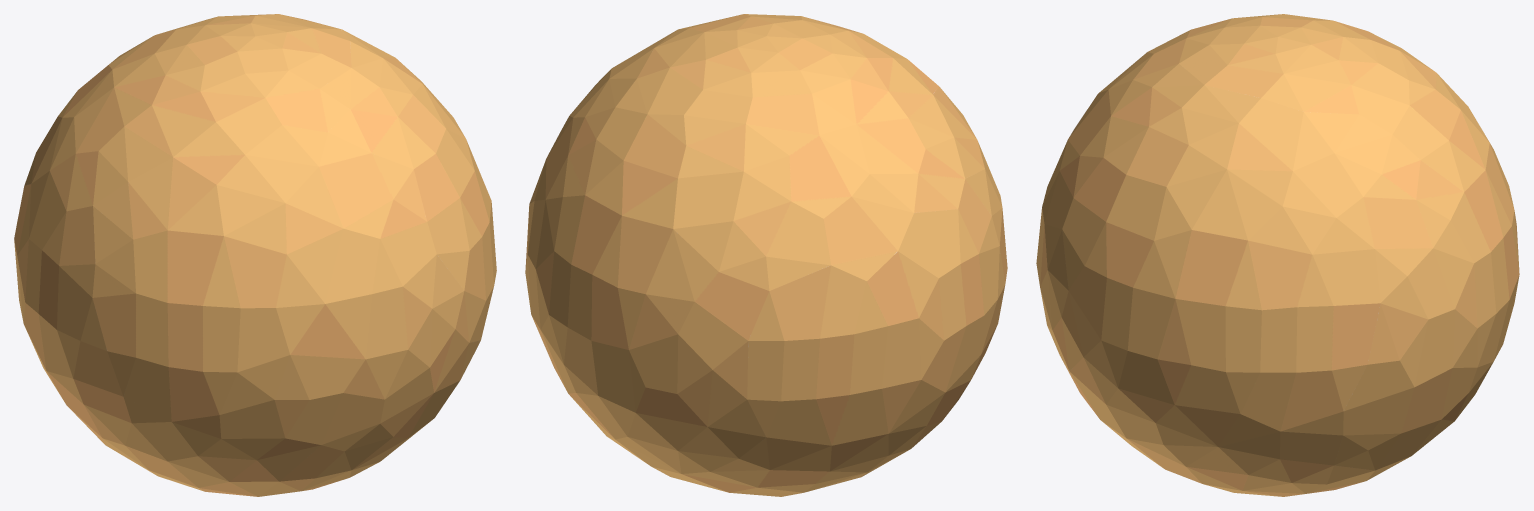
The model's file is blank-planet.fbx.
3 views of the same model, side by side, from view 1: azimuth 30°, elevation 25°; view 2: azimuth 150°, elevation 25°; view 3: azimuth 270°, elevation 25° (orthographic).
Visible parts, largest first — view 1: Sphere; view 2: Sphere; view 3: Sphere.
Part boxes in pixels (x1,y1,x2,y2): Sphere: (14, 14, 496, 496); Sphere: (525, 14, 1007, 496); Sphere: (1036, 14, 1519, 496).
Bounding box in the file's own units: 1424 × 1428 × 1430.
